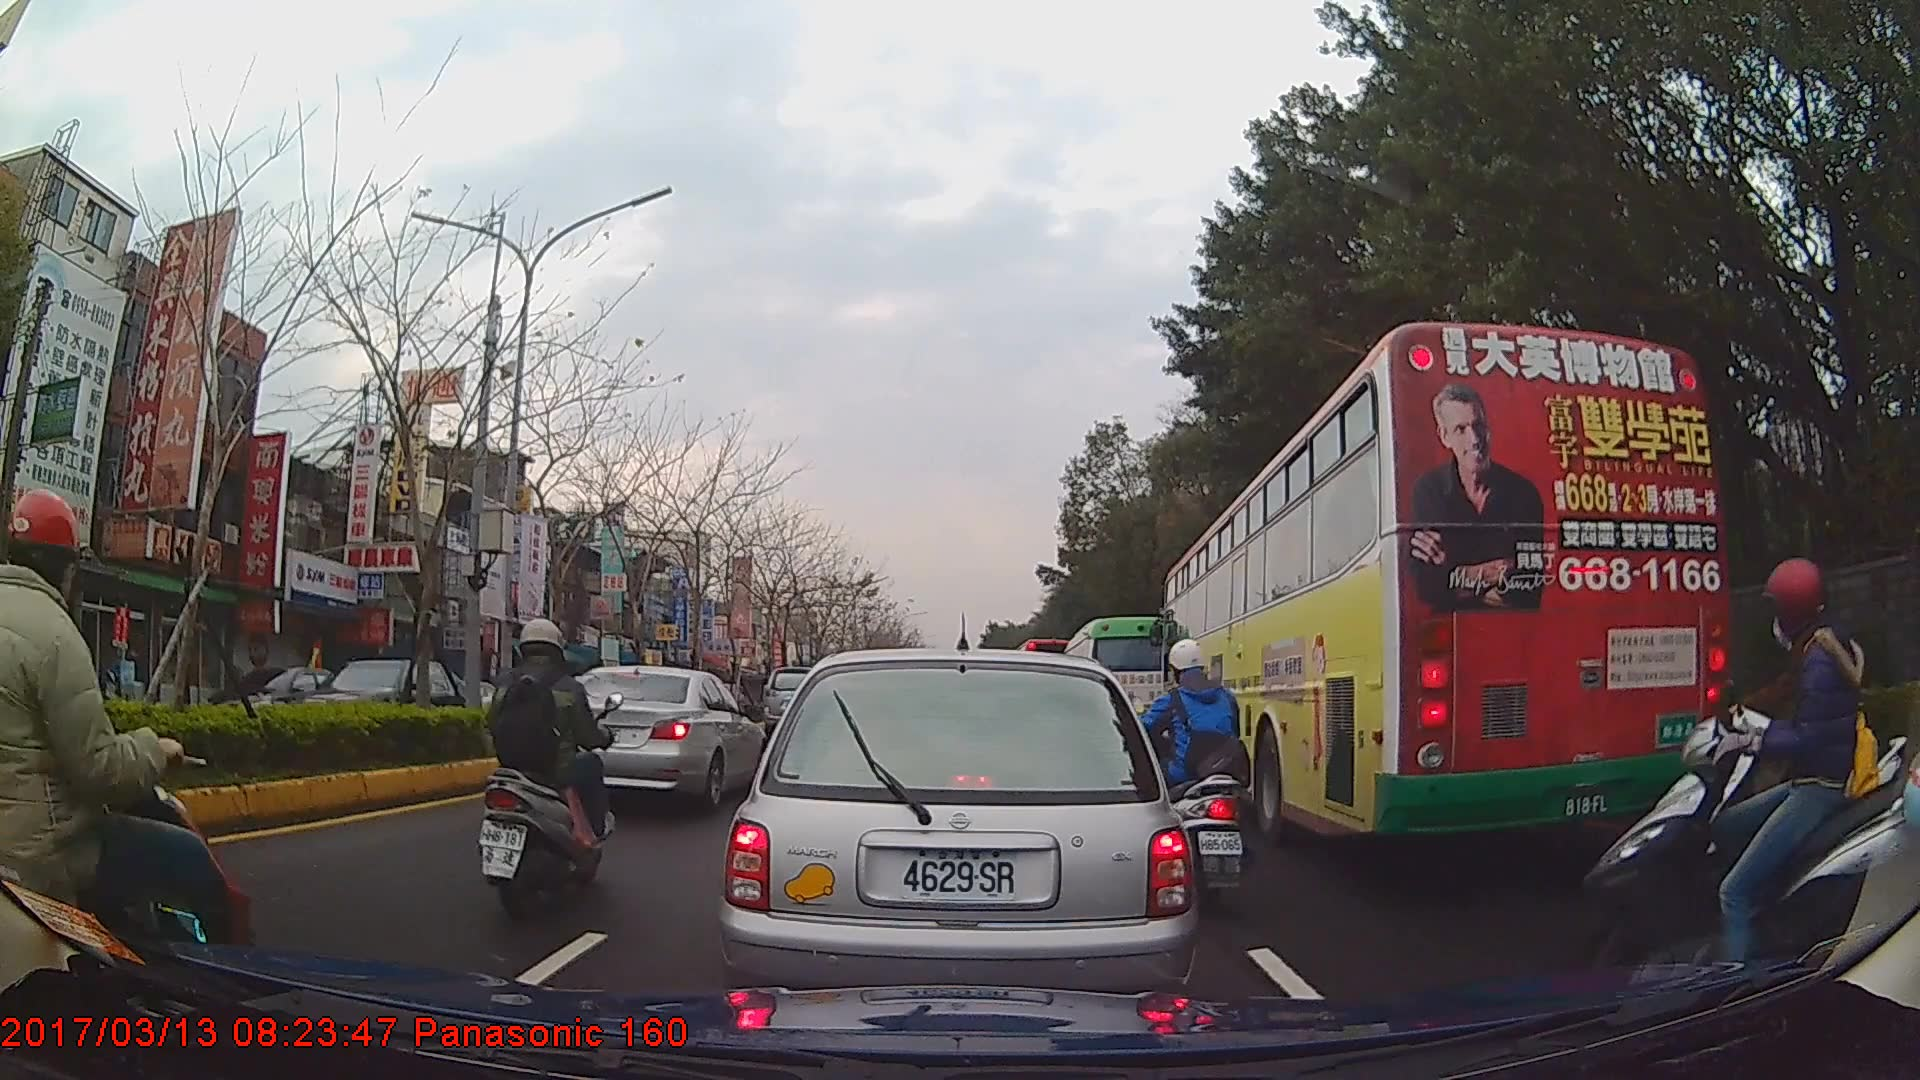rider: (1566, 564, 1920, 1001), (1, 491, 260, 991), (472, 619, 617, 915), (1136, 636, 1253, 911)
vehicle: (1160, 319, 1727, 850), (716, 647, 1195, 1030), (541, 661, 765, 811), (277, 655, 491, 750), (1058, 616, 1187, 763), (185, 658, 392, 735)
